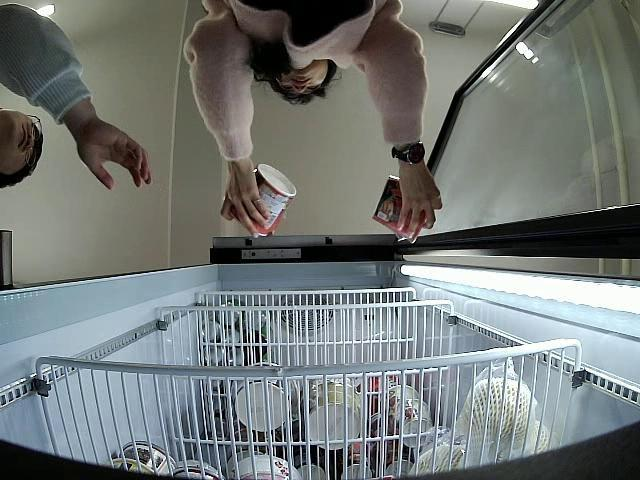01_ShinRamen_L: (225, 164, 298, 240), (371, 173, 423, 243)
